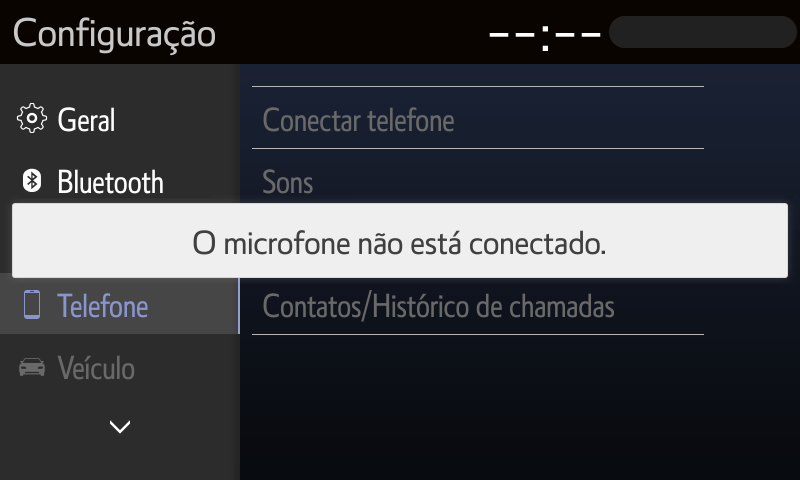touchPart: (18, 162, 169, 199), (17, 102, 121, 137), (102, 413, 136, 438)
untouchPart: (250, 81, 710, 155), (245, 273, 708, 337), (249, 144, 709, 206), (2, 271, 240, 338), (479, 9, 797, 53), (9, 14, 215, 57), (12, 346, 146, 385)
